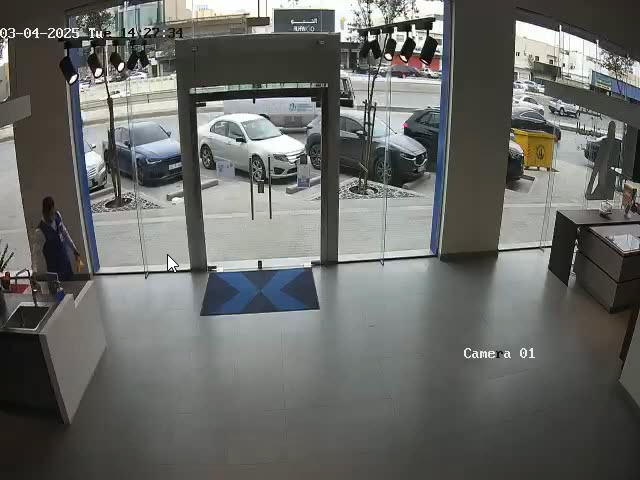employee: (37, 196, 81, 279)
